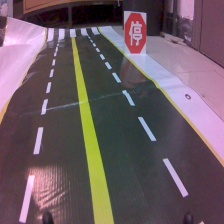stop: (123, 8, 148, 59)
